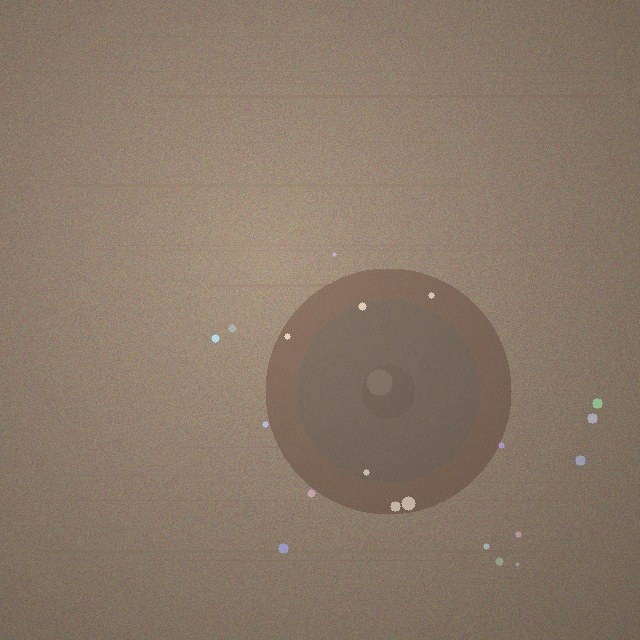overburn: (265, 268, 511, 514)
